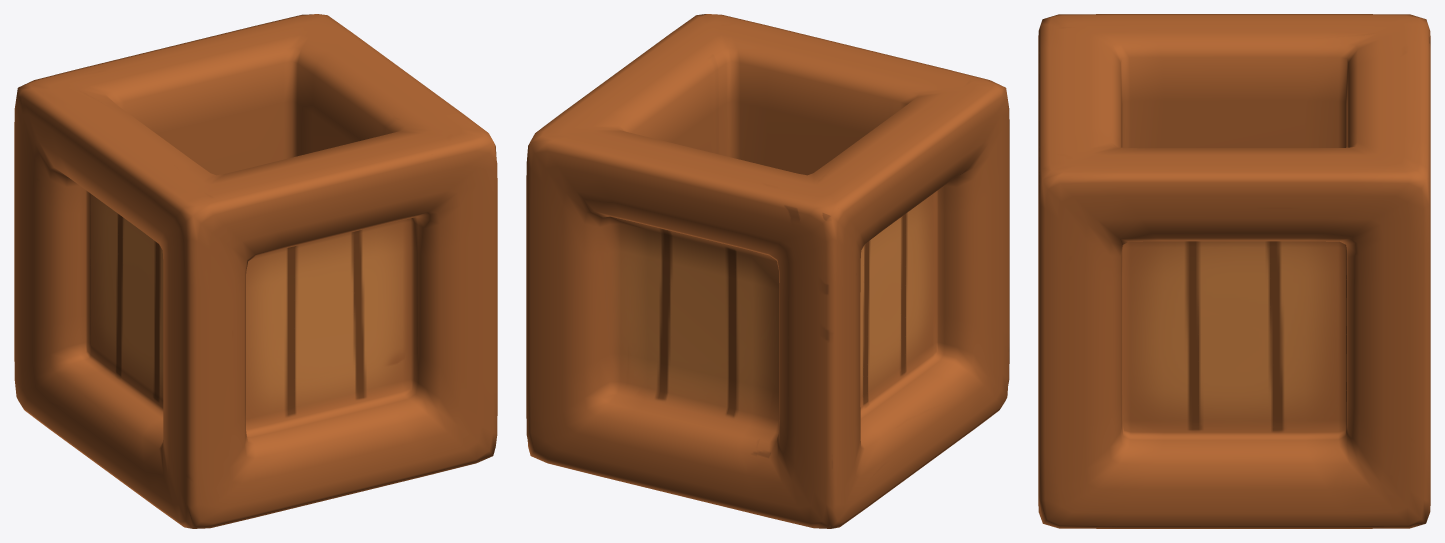
The model's file is empty box.fbx.
3 views of the same model, side by side, from view 1: azimuth 30°, elevation 25°; view 2: azimuth 150°, elevation 25°; view 3: azimuth 270°, elevation 25° (orthographic). The views are drawn at different scales.
Parts seen in each view (by area): view 1: empty box; view 2: empty box; view 3: empty box.
Boxes of the visible parts, box(x1,y1,x2,y2) form: empty box: box(14, 14, 497, 528); empty box: box(526, 14, 1009, 528); empty box: box(1038, 14, 1430, 528).
Size of the model in its own units: 124 by 124 by 124.
1 material, 1 textured.
